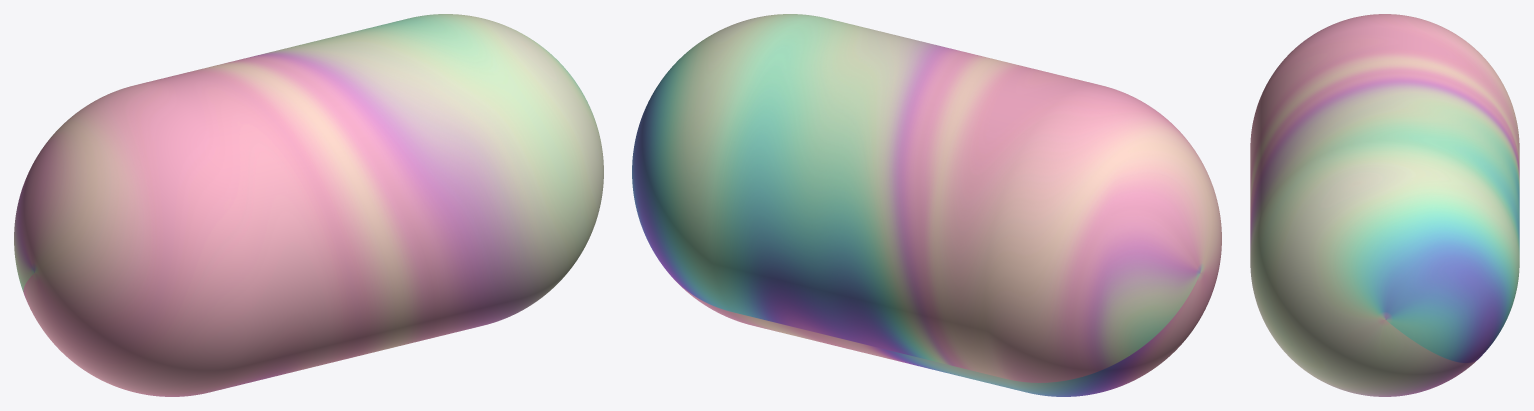
Rendered from Prim_04.gltf.
The picture shows the model from 3 angles, left to right: view 1: azimuth 30°, elevation 25°; view 2: azimuth 150°, elevation 25°; view 3: azimuth 270°, elevation 25°; orthographic projection. The views are drawn at different scales.
Parts seen in each view (by area): view 1: 008; view 2: 008; view 3: 008.
Boxes of the visible parts, x1,y1,x2,y2 form: 008: (14, 14, 603, 396); 008: (632, 14, 1221, 396); 008: (1250, 14, 1519, 396).
Bounding box in the file's own units: 76.14 × 38.08 × 38.08.
Materials: 1 (1 with a texture image).
